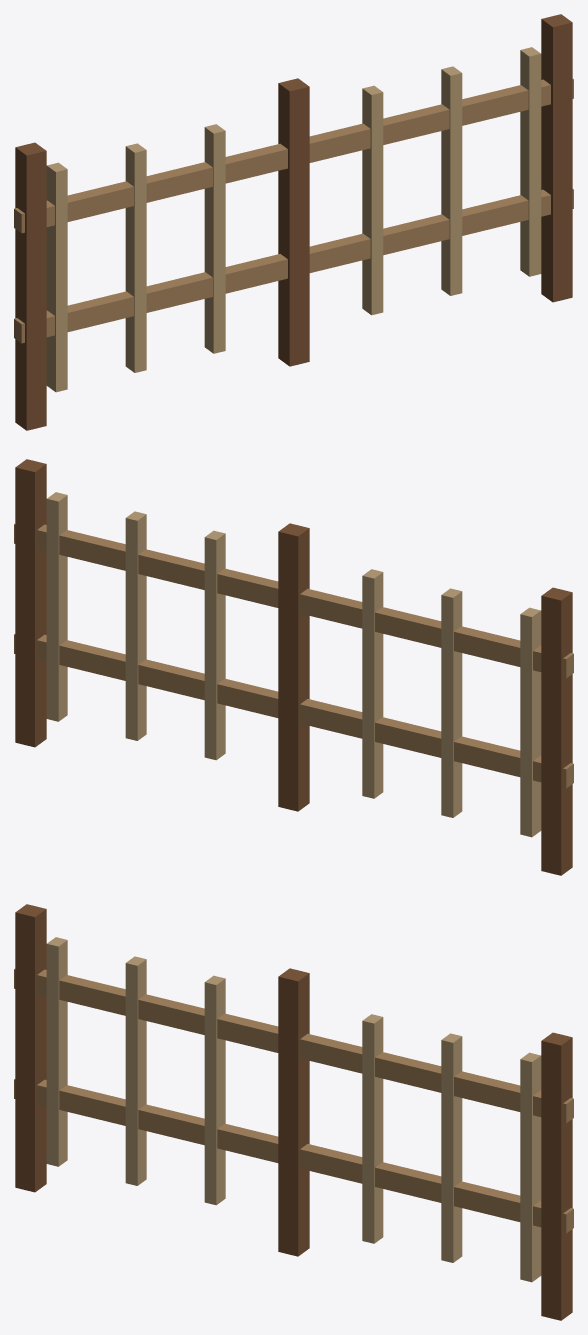
The model's file is fence-ultra.glb.
3 renders of one model, top to bottom at view 1: azimuth 30°, elevation 25°; view 2: azimuth 150°, elevation 25°; view 3: azimuth 330°, elevation 25°, orthographic.
Parts seen in each view (by area): view 1: fence; view 2: fence; view 3: fence.
Boxes of the visible parts, x1,y1,x2,y2 form: fence: (14, 14, 573, 430); fence: (14, 459, 573, 875); fence: (14, 904, 573, 1320).
Bounding box in the file's own units: 2.1 × 1 × 0.075.
